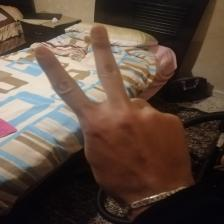two: (34, 20, 182, 190)
